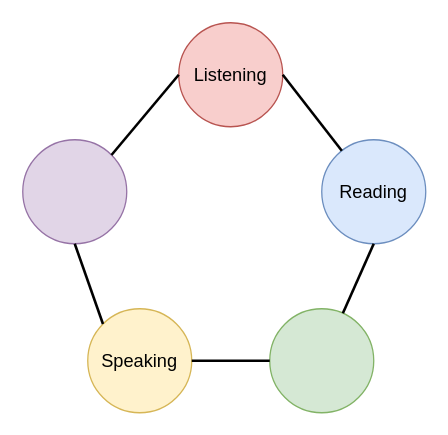
Some shapes in this 448 by 435 pixel diagram are drawn without their labels. Here are the shapes that lost their labels. From the top down, the box of each, then its label:
(21, 138, 127, 244): Vocabulary
(268, 307, 374, 413): Writing
